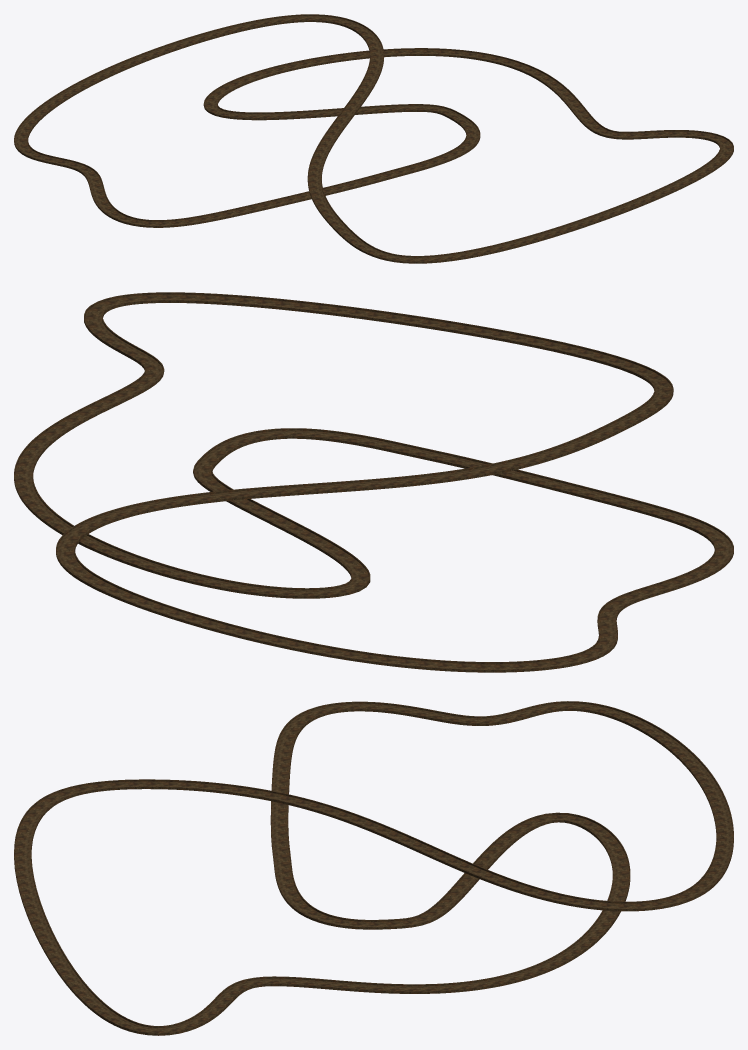
The model's file is road2.glb.
3 views of the same model, one above another, from view 1: azimuth 30°, elevation 25°; view 2: azimuth 150°, elevation 25°; view 3: azimuth 270°, elevation 25° (orthographic). The views are drawn at different scales.
Parts seen in each view (by area): view 1: road-col; view 2: road-col; view 3: road-col.
Part boxes in pixels (x1,y1,x2,y2): road-col: (14, 14, 733, 263); road-col: (14, 292, 733, 672); road-col: (14, 701, 733, 1035).
Bounding box in the file's own units: 89.38 × 2.7 × 81.83.
1 material, 1 textured.
